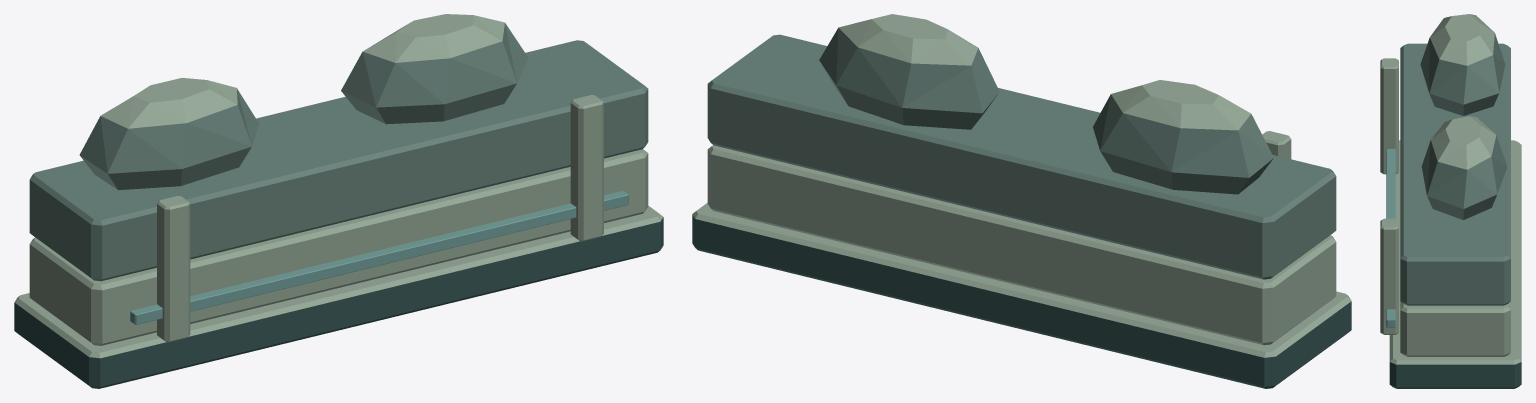
Rendered from wall-broken.glb.
3 views of the same model, side by side, from view 1: azimuth 30°, elevation 25°; view 2: azimuth 150°, elevation 25°; view 3: azimuth 270°, elevation 25° (orthographic). The views are drawn at different scales.
Parts seen in each view (by area): view 1: wall-broken__body; view 2: wall-broken__body; view 3: wall-broken__body.
Boxes of the visible parts, <box> form: wall-broken__body: <box>14,14,663,388</box>; wall-broken__body: <box>692,14,1351,388</box>; wall-broken__body: <box>1380,14,1521,388</box>.
Bounding box in the file's own units: 2 × 0.79 × 0.535.
